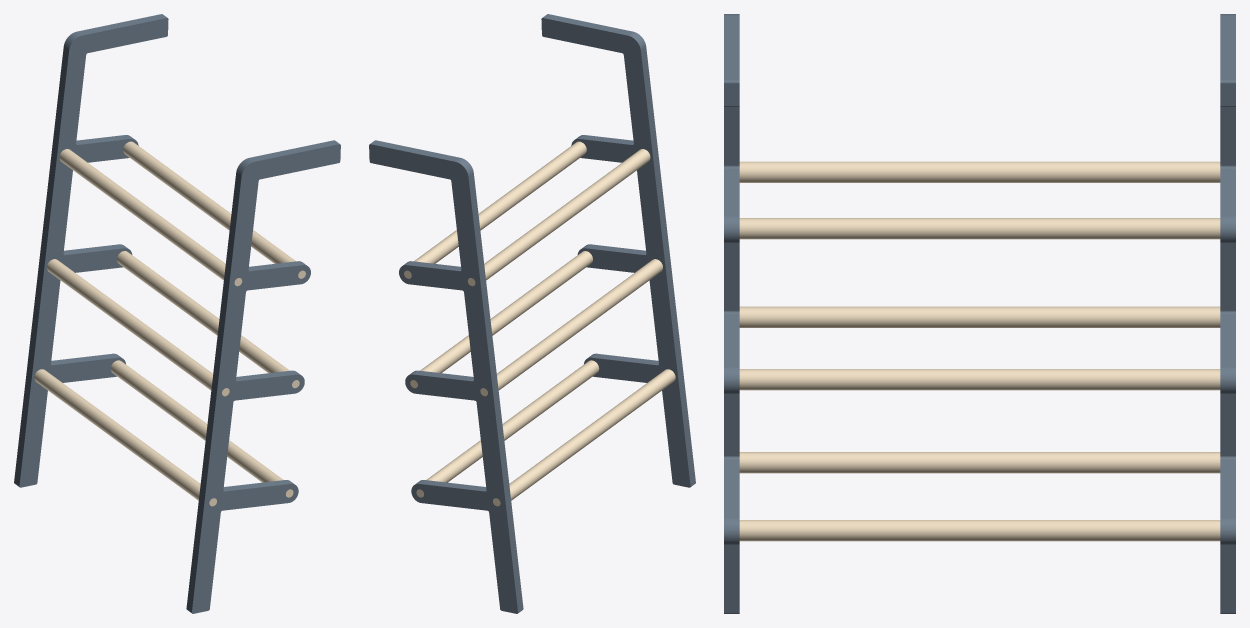
Rendered from Lean-ah Shoe Rack v27 centered hq.obj.
3 renders of one model, left to right at view 1: azimuth 30°, elevation 25°; view 2: azimuth 150°, elevation 25°; view 3: azimuth 270°, elevation 25°, orthographic. The views are drawn at different scales.
Visible parts, largest first — view 1: Body1; view 2: Body1; view 3: Body1.
Boxes of the visible parts, left/top/right/bottom form: Body1: left=14, top=14, right=340, bottom=613; Body1: left=369, top=14, right=695, bottom=613; Body1: left=724, top=14, right=1235, bottom=613.
Bounding box in the file's own units: 29.04 × 81.48 × 60.
